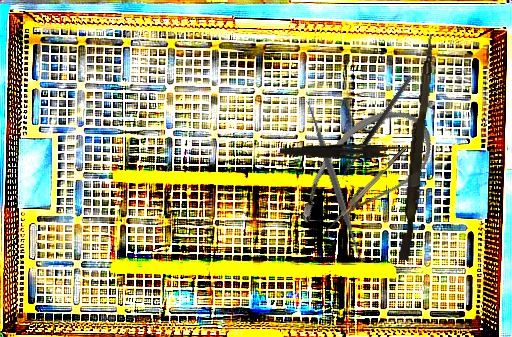Cannula: (285, 89, 445, 258)
Chopper: (321, 146, 411, 239)
Dressing Forceps: (279, 141, 412, 162)
Hook Surgical: (339, 74, 418, 184)
Pusher: (399, 32, 435, 262)
Spatula Surgical: (299, 97, 371, 266)
